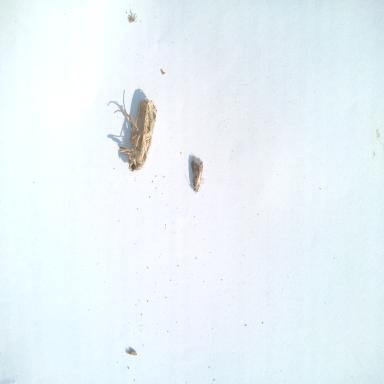pbw: (191, 156, 204, 194)
